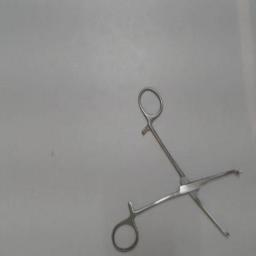Allis Tissue Forceps: (110, 82, 244, 254)
